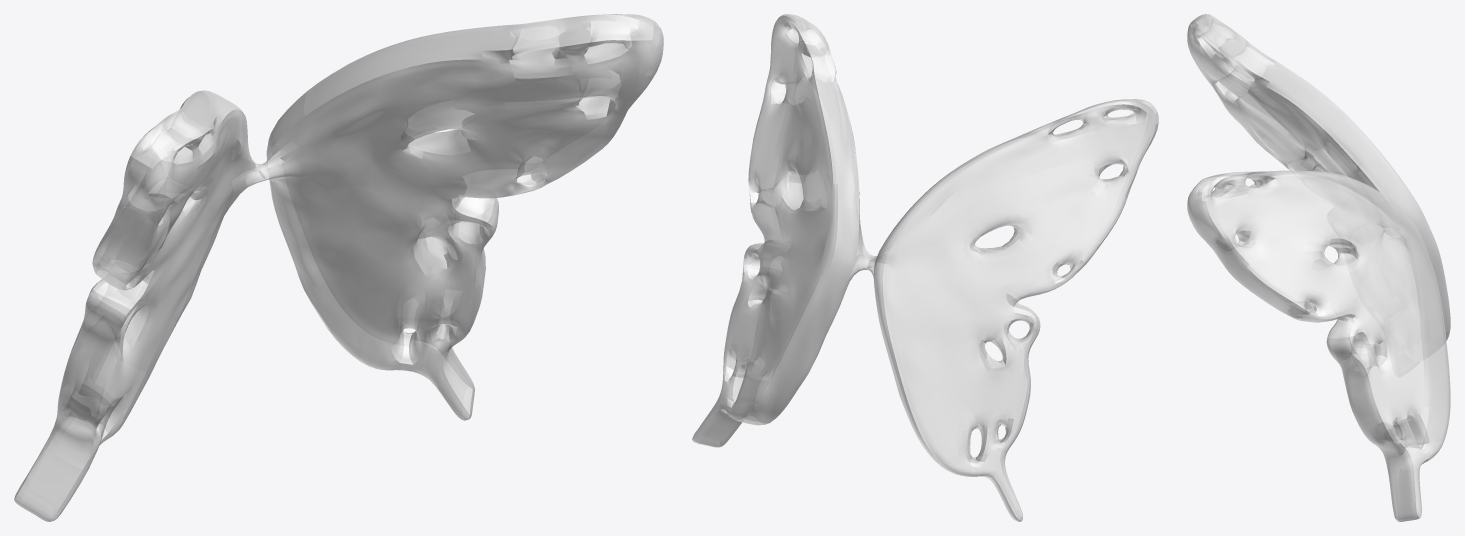
Rendered from L-butterfly.001.glb.
The picture shows the model from 3 angles, left to right: view 1: azimuth 30°, elevation 25°; view 2: azimuth 150°, elevation 25°; view 3: azimuth 270°, elevation 25°; orthographic projection. The views are drawn at different scales.
Visible parts, largest first — view 1: L-butterfly.001; view 2: L-butterfly.001; view 3: L-butterfly.001.
Part boxes in pixels (x1,y1,x2,y2): L-butterfly.001: (14, 14, 663, 521); L-butterfly.001: (692, 14, 1158, 521); L-butterfly.001: (1187, 14, 1450, 521).
Size of the model in its own units: 0.0962 by 0.085 by 0.058.
1 material, 1 textured.
